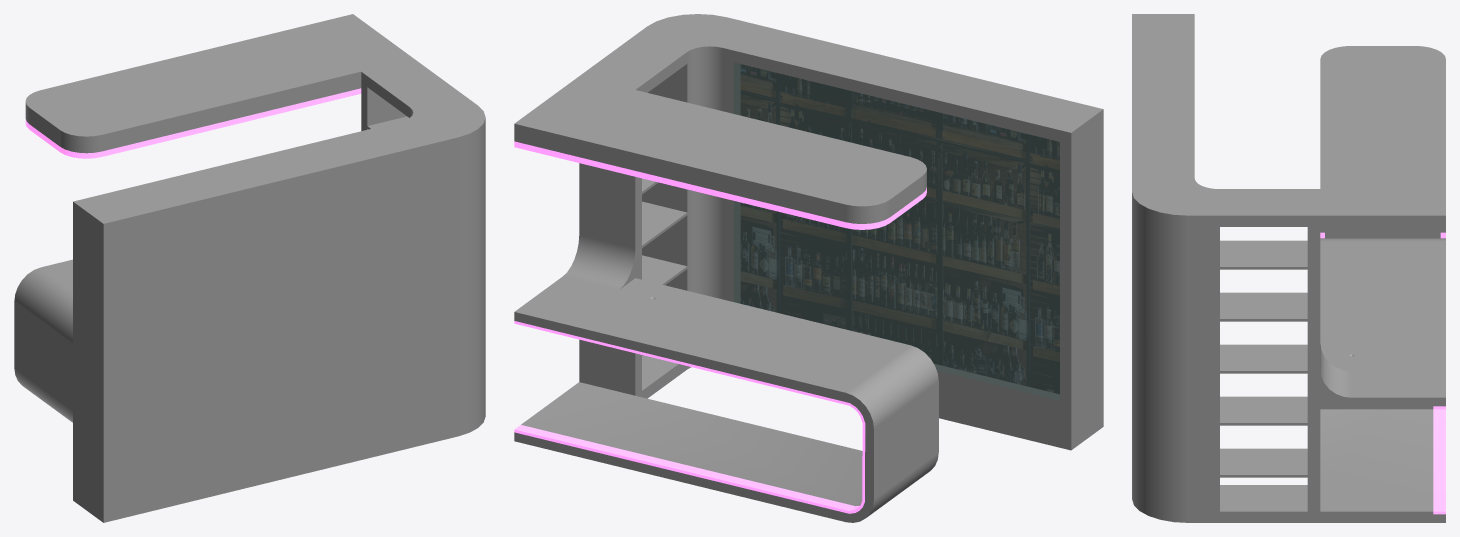
The model's file is bar.glb.
3 views of the same model, side by side, from view 1: azimuth 30°, elevation 25°; view 2: azimuth 150°, elevation 25°; view 3: azimuth 270°, elevation 25° (orthographic). The views are drawn at different scales.
Visible parts, largest first — view 1: bar; view 2: bar; view 3: bar.
Part boxes in pixels (left/top/right/bottom): bar: left=14, top=14, right=485, bottom=522; bar: left=514, top=14, right=1103, bottom=522; bar: left=1132, top=14, right=1445, bottom=522.
Size of what is drawn, in the model's own units: 4.17 by 2.96 by 2.74.
